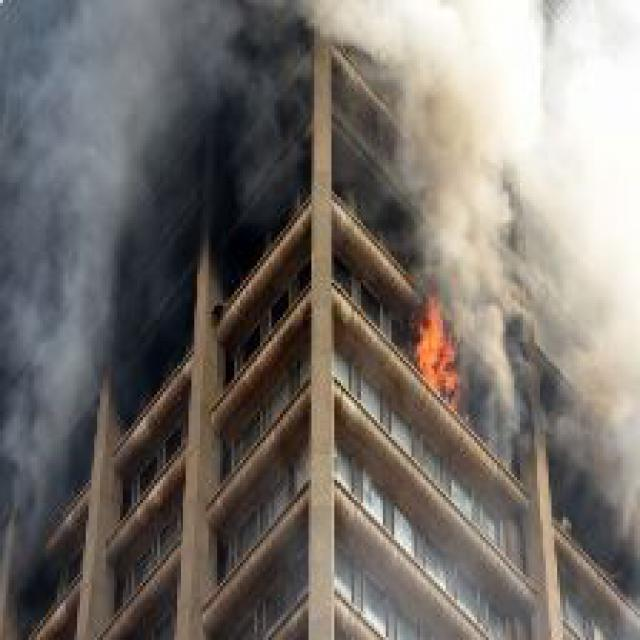fire: (409, 286, 477, 426)
